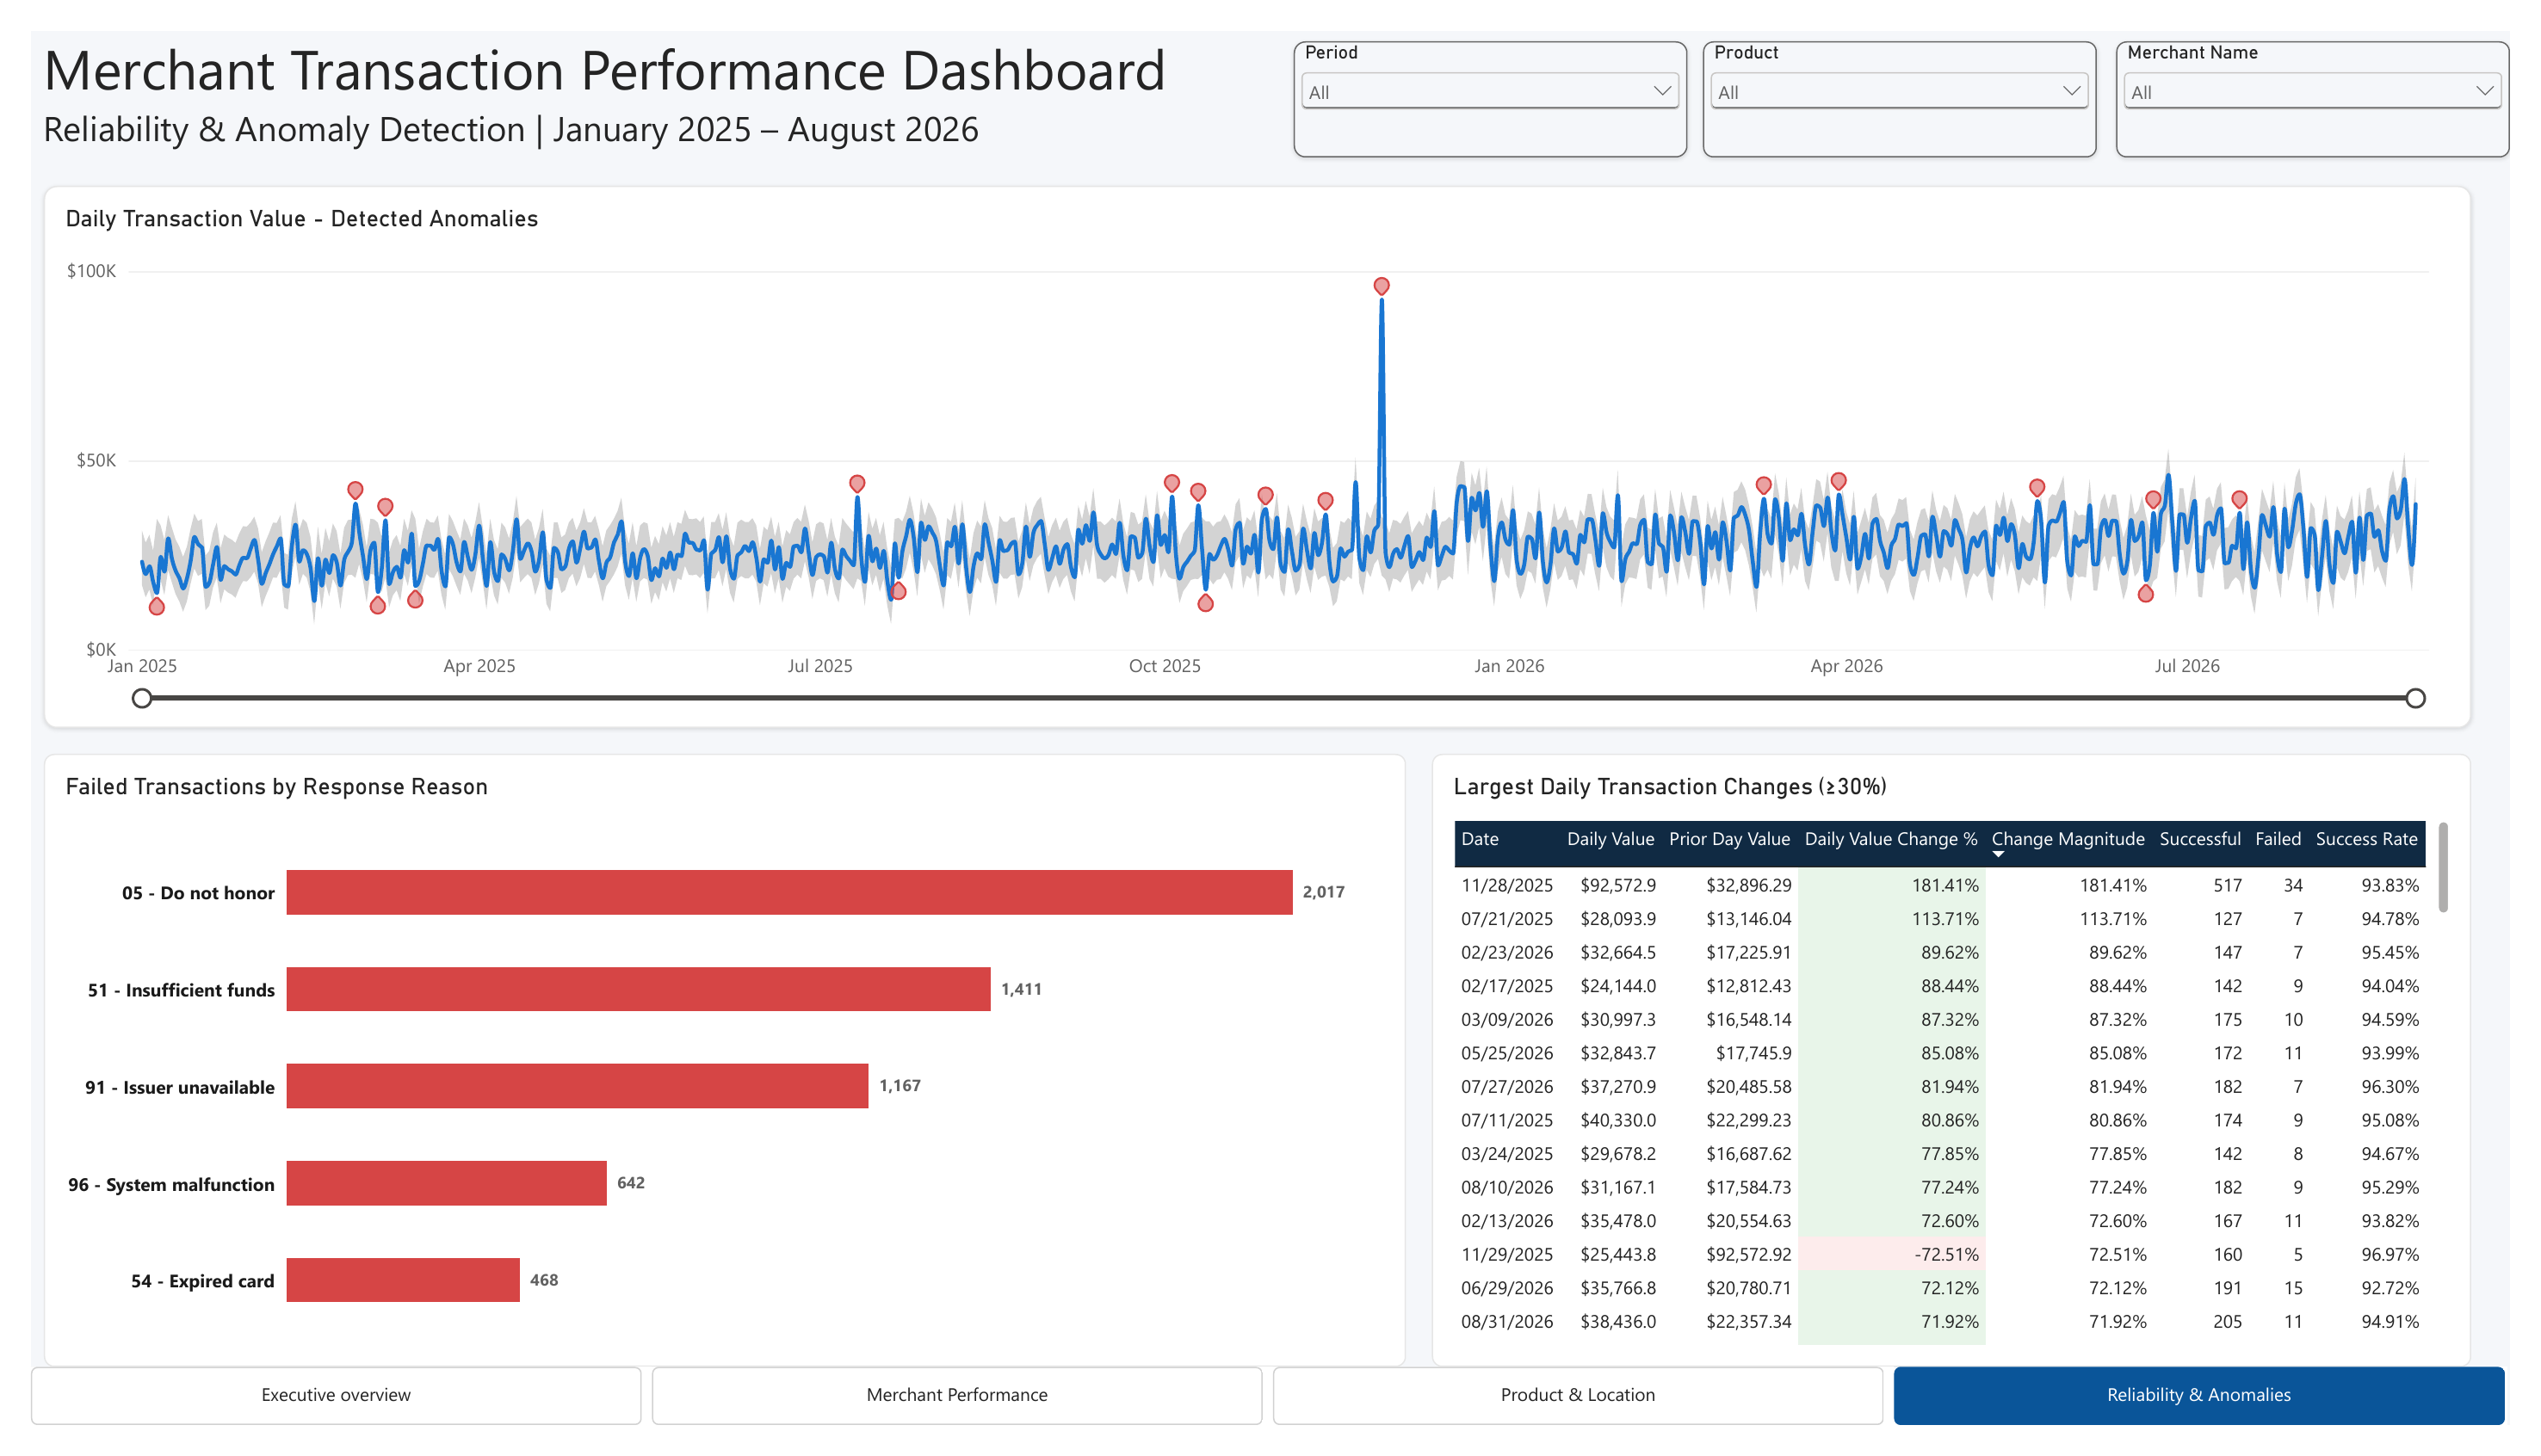

Layout of this report page (visuals, bound fields, positions):
{"tool":"powerbi","page":{"name":"Reliability & Anomalies","canvas":[1920,1080],"ordinal":3},"visuals":[{"type":"textbox","box":[10,0,907.5,120],"z":0},{"type":"slicer","fields":{"Values":["DimDate.Month Year"]},"box":[977.5,7.5,305,90],"z":1000},{"type":"slicer","fields":{"Values":["merchants.merchant_name"]},"box":[1615,7.5,305,90],"z":2000},{"type":"slicer","fields":{"Values":["products.product_name"]},"box":[1295,7.5,305,90],"z":3000},{"type":"lineChart","title":"Daily Transaction Value - Detected Anomalies","fields":{"Category":["DimDate.Date"],"Y":["_Measures.Transaction Value"]},"box":[10,120,1880,420],"z":4000},{"type":"clusteredBarChart","title":"Failed Transactions by Response Reason","fields":{"Category":["transactions.Failure Reason"],"Y":["_Measures.Failed Transaction Count"]},"box":[10,560,1055,475],"z":5000},{"type":"tableEx","title":"Largest Daily Transaction Changes (≥30%)","fields":{"Values":["DimDate.Date","_Measures.Transaction Value","_Measures.Previous Day Value","_Measures.Daily Value Change %","_Measures.Absolute Daily Value Change %","_Measures.Transaction Count","_Measures.Failed Transaction Count","_Measures.Success Rate"]},"box":[1085,560,805,475],"z":6000},{"type":"pageNavigator","box":[0,1034.8,1918.4,45.2],"z":7000}]}

Visuals, with their boxes in screenshot pixels (x1, y1, x2, y2), scaled from the page's 1920x1080 canvas onto the 2541x1456 screenshot:
textbox: (left=13, top=0, right=1215, bottom=162)
slicer - DimDate.Month Year: (left=1294, top=10, right=1697, bottom=132)
slicer - merchants.merchant_name: (left=2137, top=10, right=2540, bottom=132)
slicer - products.product_name: (left=1714, top=10, right=2117, bottom=132)
"Daily Transaction Value - Detected Anomalies" lineChart: (left=13, top=162, right=2501, bottom=728)
"Failed Transactions by Response Reason" clusteredBarChart: (left=13, top=755, right=1409, bottom=1396)
"Largest Daily Transaction Changes (≥30%)" tableEx: (left=1436, top=755, right=2501, bottom=1396)
pageNavigator: (left=0, top=1395, right=2539, bottom=1455)
